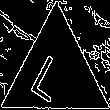L_NE: (32, 43, 79, 103)
